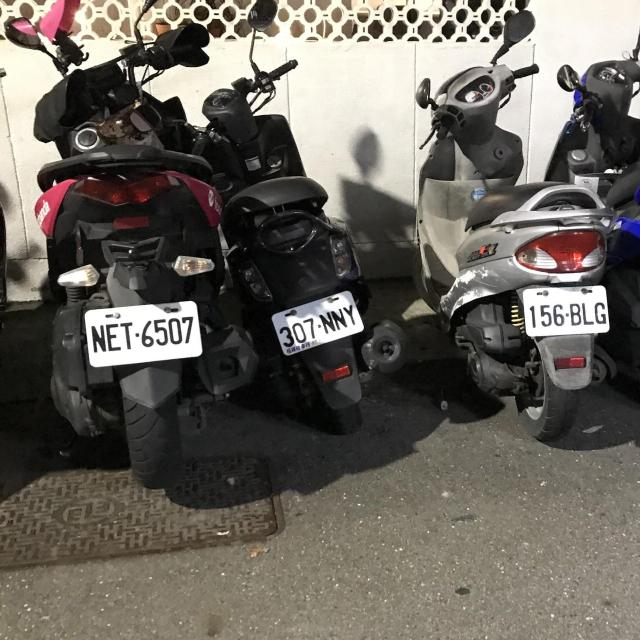W: (81, 297, 206, 368), (268, 286, 368, 356), (516, 281, 614, 339)
